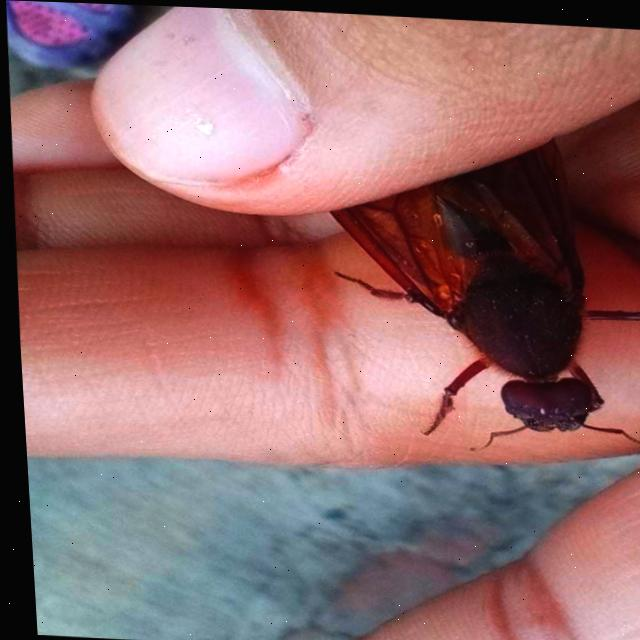Alive-Female-Alate: (262, 8, 640, 458)
